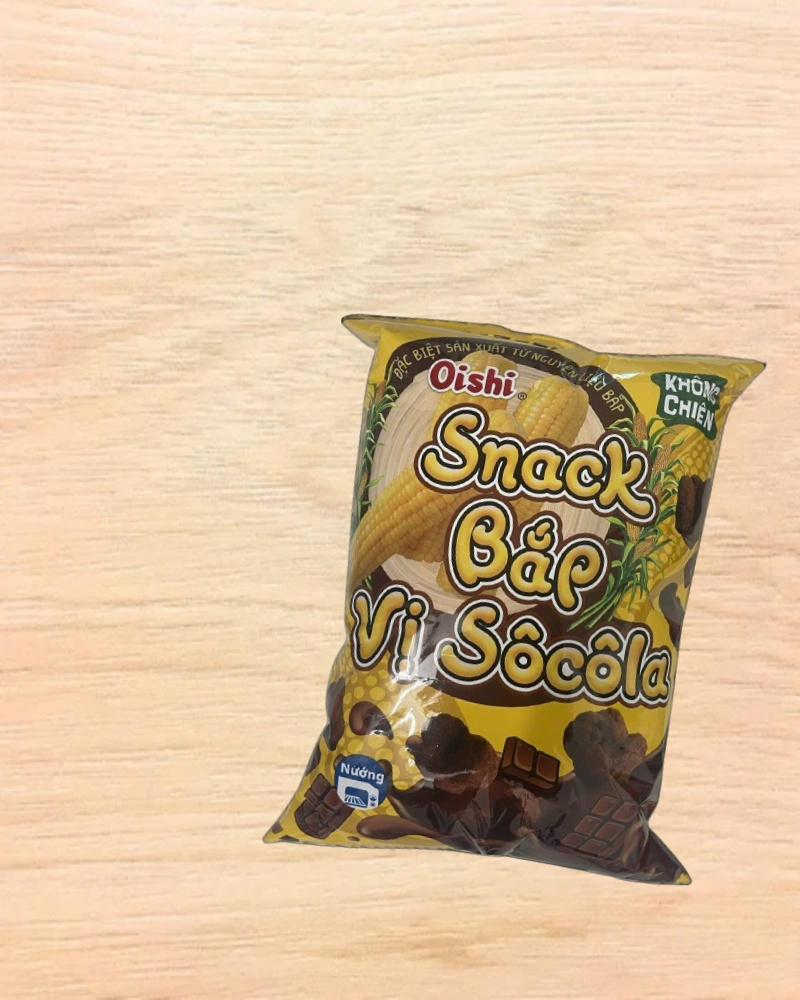Snack socola: (255, 293, 783, 906)
